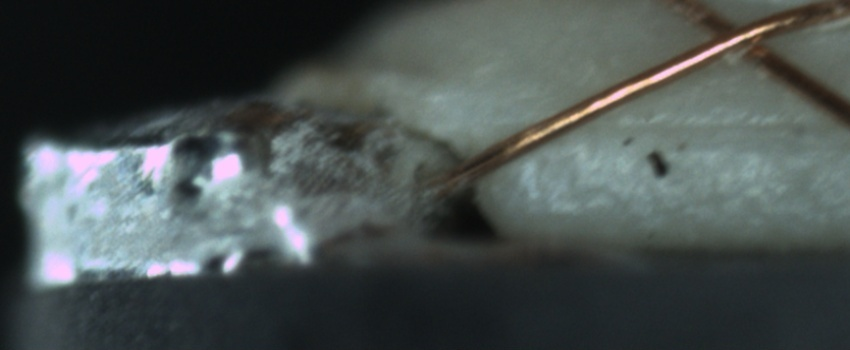CL: (674, 1, 801, 72)
DL: (569, 98, 847, 163)
